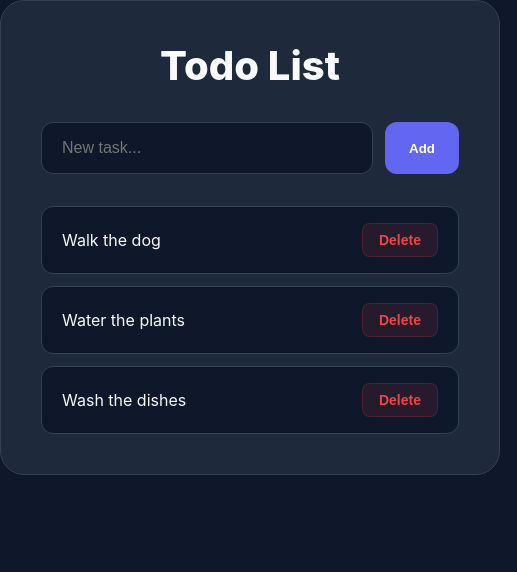
Test case: TodoList Component › should add a new task
Type "New Test Task" into the field with placeholder "New task..." at (207, 148), box [41,122,373,174]
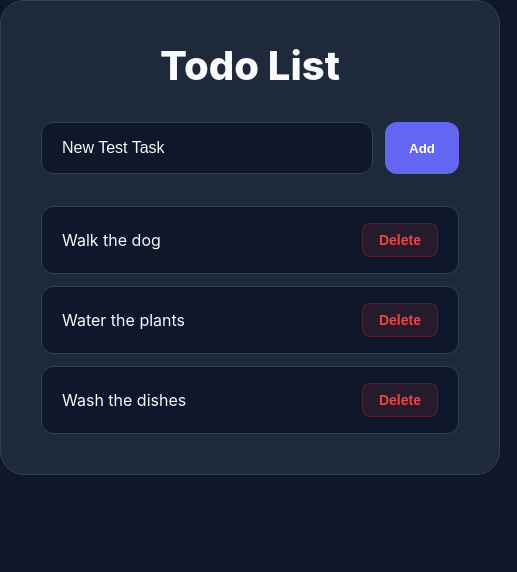
Click the button "Add" at (422, 148), box [385,122,459,174]
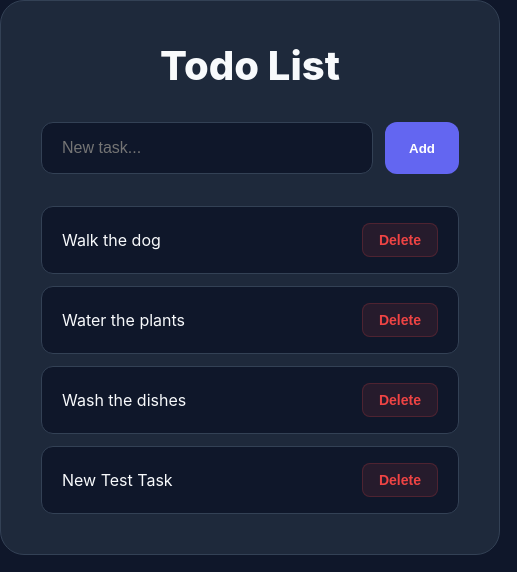
Expected: the text "New Test Task" is shown, [62,470,173,490]
Expected: the field with placeholder "New task..." is empty, [41,122,373,174]
